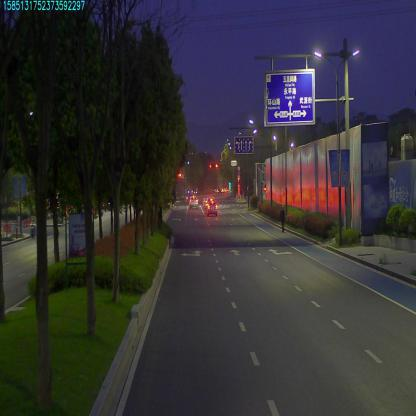traffic-light: (214, 161, 221, 169), (208, 160, 213, 168)
